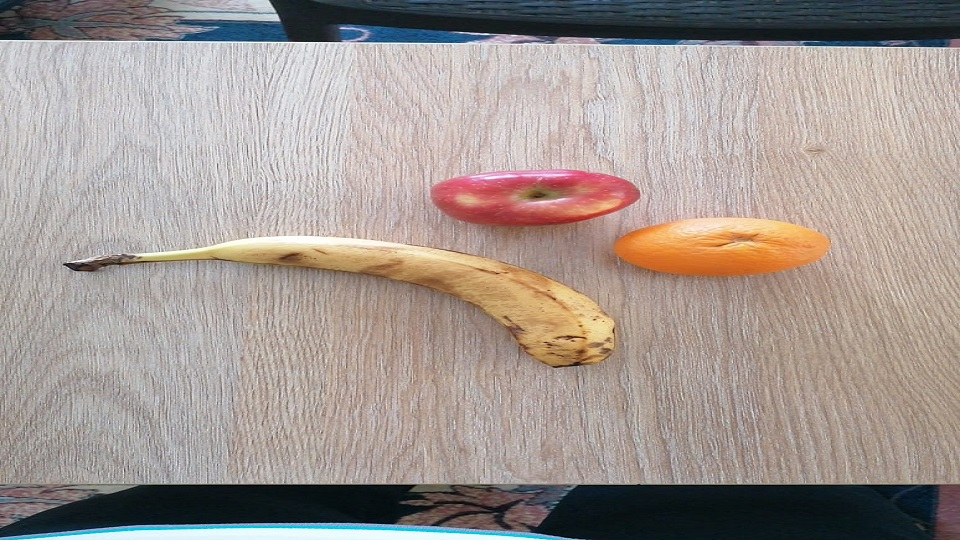elma: (430, 168, 641, 227)
muz: (128, 235, 617, 368)
portakal: (612, 217, 831, 276)
